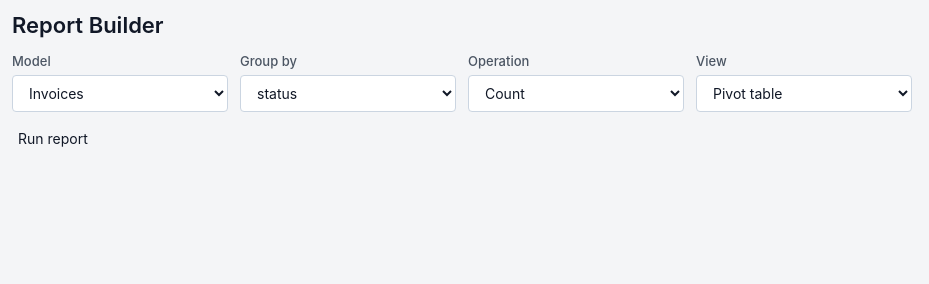
Test: ReportBuilderPage › renders pivot results after fetching
Click the button "Run report" at (53, 138), box [12,129,94,148]
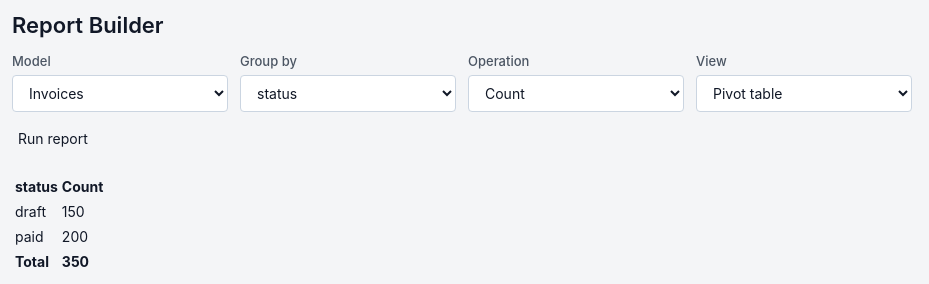
Check: the text "draft" is shown, box [14,200,59,223]
Check: the text "paid" is shown, box [14,225,59,248]
